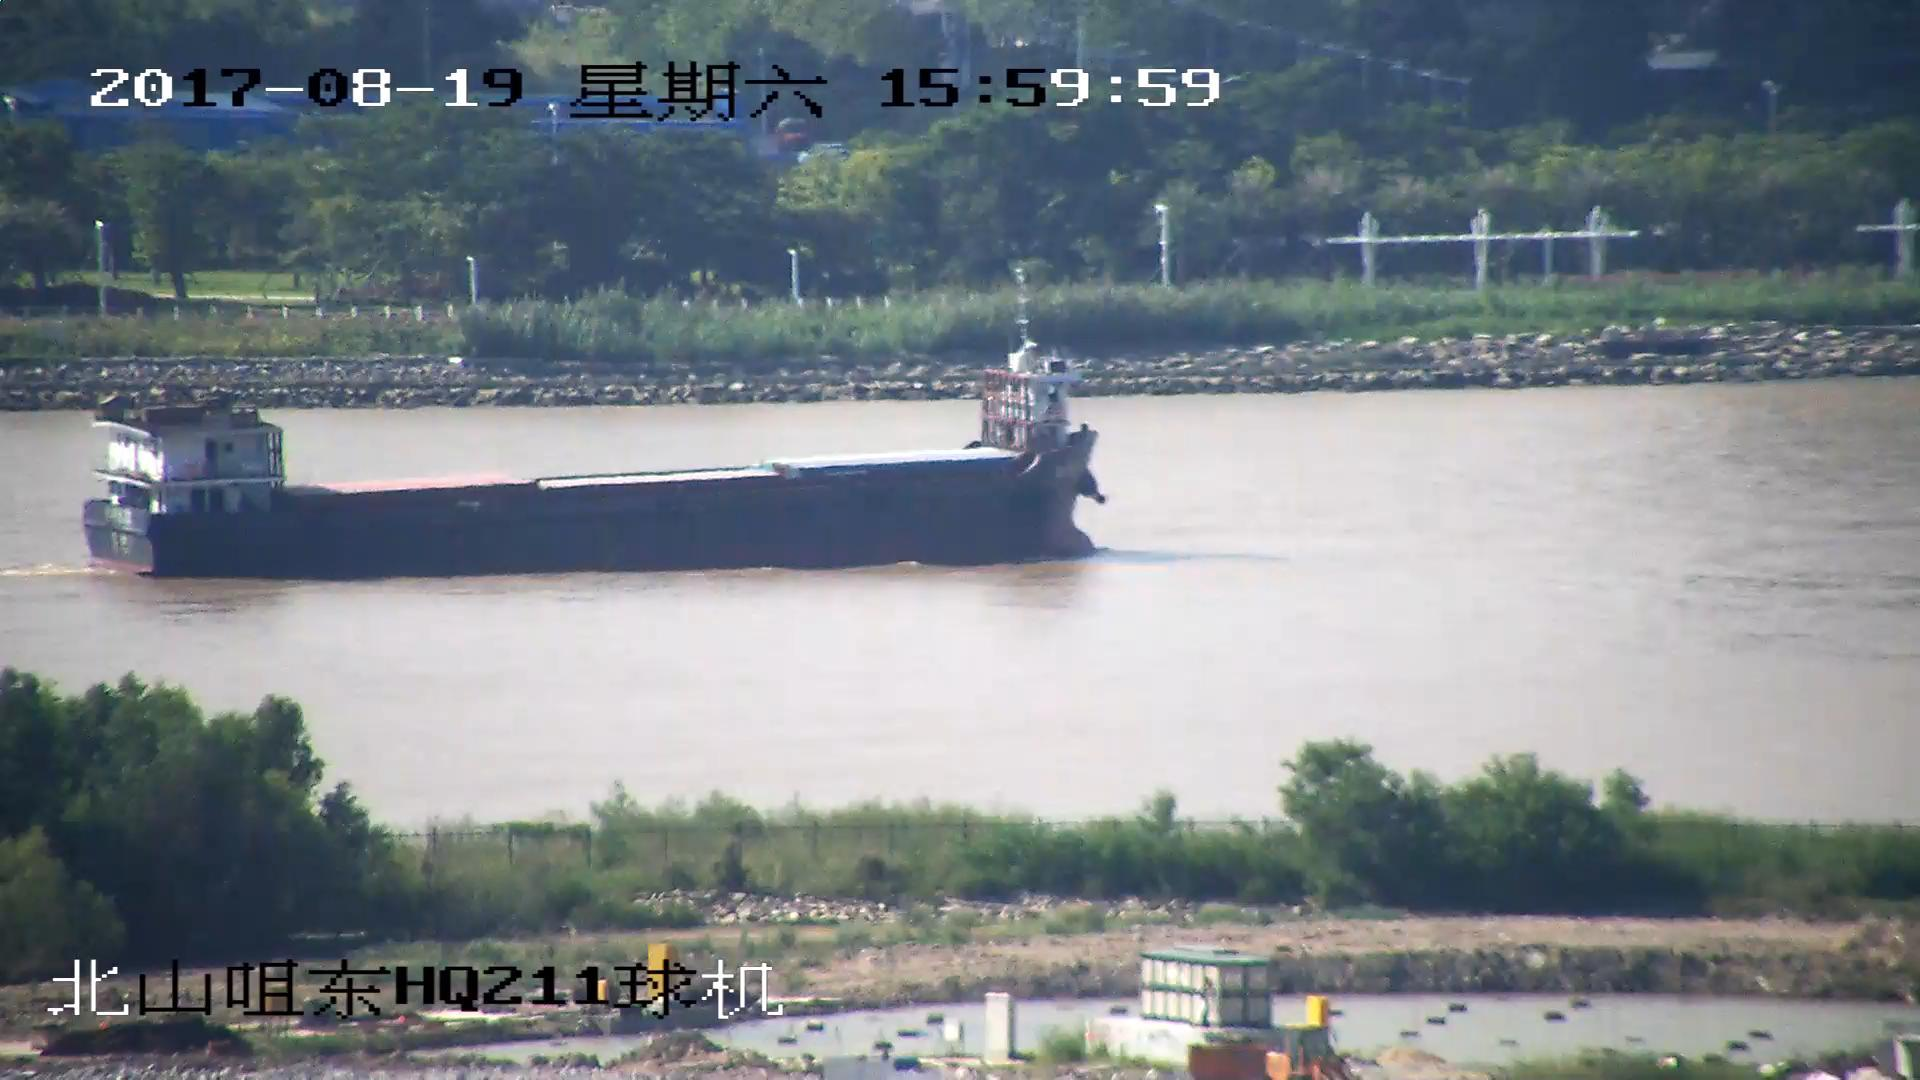Ship: (80, 326, 1112, 579)
